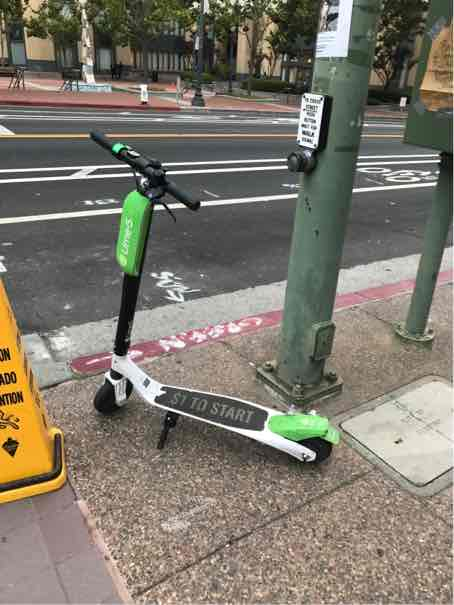scooter: (71, 127, 347, 474)
